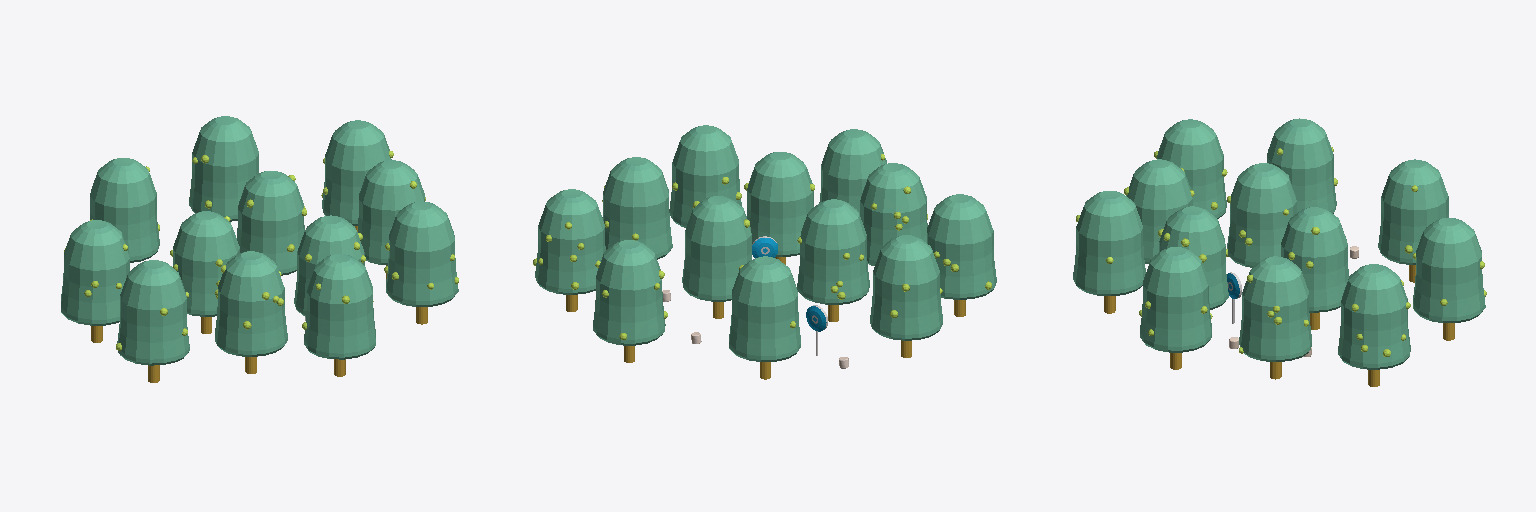
3 views of the same model, side by side, from view 1: azimuth 30°, elevation 25°; view 2: azimuth 150°, elevation 25°; view 3: azimuth 270°, elevation 25° (orthographic).
Visible parts, largest first — view 1: Object016, Object052, Object010, Object064, Object028, Object040, Object058, Object046, Object004, Object034, Tree, Object022; view 2: Object046, Object028, Object040, Object004, Object034, Object058, Object052, Tree, Object022, Object010, Object064, Object016; view 3: Object016, Object040, Object010, Tree, Object034, Object004, Object046, Object058, Object028, Object052, Object064, Object022.
Boxes of the visible parts, x1=… form: Object016: x1=304, y1=254, x2=375, y2=359; Object052: x1=117, y1=260, x2=189, y2=365; Object010: x1=386, y1=201, x2=458, y2=306; Object064: x1=215, y1=251, x2=287, y2=356; Object028: x1=61, y1=220, x2=129, y2=325; Object040: x1=189, y1=116, x2=258, y2=221; Object058: x1=237, y1=171, x2=304, y2=275; Object046: x1=90, y1=158, x2=159, y2=262; Object004: x1=173, y1=211, x2=239, y2=316; Object034: x1=322, y1=120, x2=391, y2=225; Tree: x1=358, y1=160, x2=424, y2=265; Object022: x1=294, y1=215, x2=364, y2=316; Object046: x1=729, y1=256, x2=800, y2=361; Object028: x1=870, y1=235, x2=942, y2=340; Object040: x1=593, y1=240, x2=665, y2=345; Object004: x1=797, y1=199, x2=869, y2=304; Object034: x1=535, y1=189, x2=605, y2=294; Object058: x1=682, y1=196, x2=751, y2=301; Object052: x1=927, y1=194, x2=996, y2=299; Tree: x1=602, y1=157, x2=672, y2=259; Object022: x1=747, y1=152, x2=813, y2=256; Object010: x1=669, y1=125, x2=741, y2=227; Object064: x1=860, y1=163, x2=927, y2=265; Object016: x1=819, y1=129, x2=886, y2=213; Object016: x1=1073, y1=191, x2=1145, y2=295; Object040: x1=1413, y1=218, x2=1485, y2=322; Object010: x1=1140, y1=247, x2=1211, y2=352; Tree: x1=1239, y1=256, x2=1311, y2=361; Object034: x1=1338, y1=264, x2=1410, y2=369; Object004: x1=1227, y1=163, x2=1296, y2=267; Object046: x1=1378, y1=159, x2=1448, y2=264; Object058: x1=1281, y1=207, x2=1348, y2=312; Object028: x1=1267, y1=118, x2=1336, y2=213; Object052: x1=1157, y1=119, x2=1226, y2=218; Object064: x1=1126, y1=159, x2=1192, y2=263; Object022: x1=1159, y1=206, x2=1228, y2=309.
Size of the model in its own units: 5.3 by 1.69 by 5.23.
Materials: 5 (5 with a texture image).